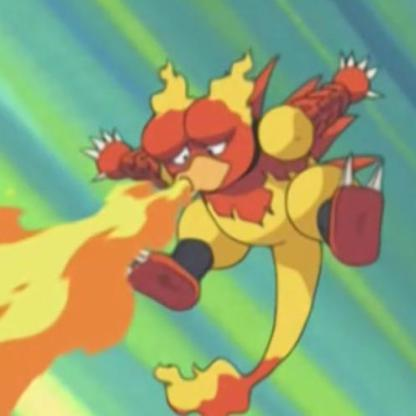Magmar: (0, 7, 394, 415)
